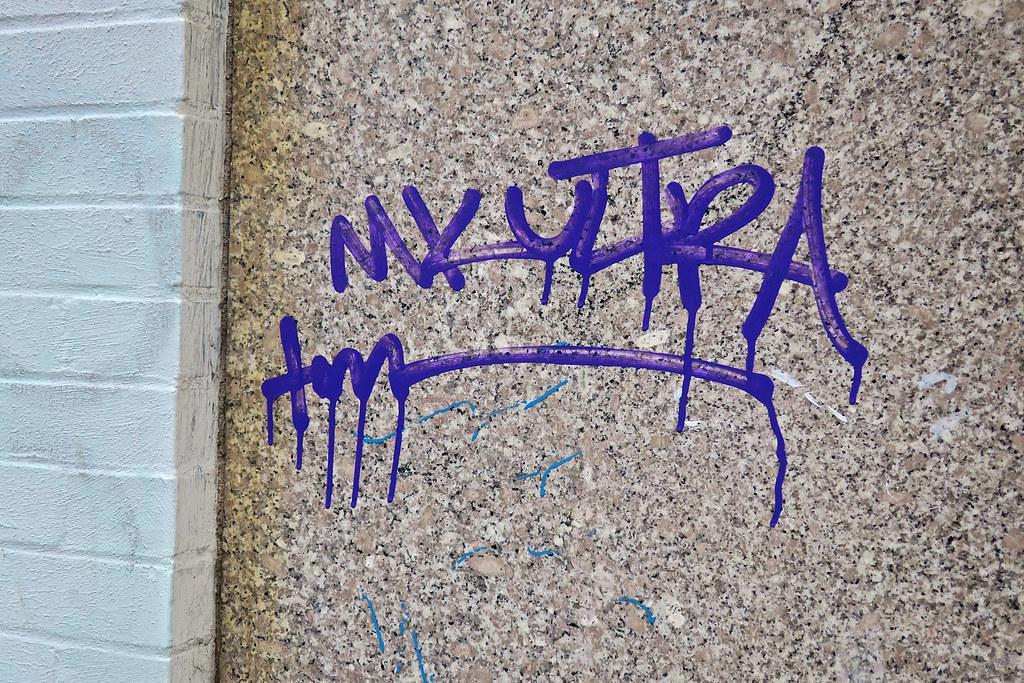graffiti: (238, 132, 878, 570)
